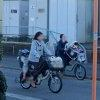bicycles: (19, 54, 63, 94)
